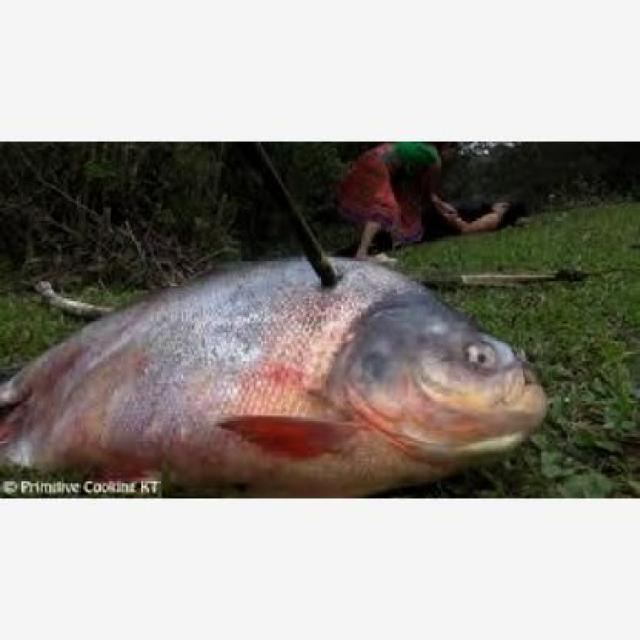ikan-pacu: (0, 253, 526, 476)
